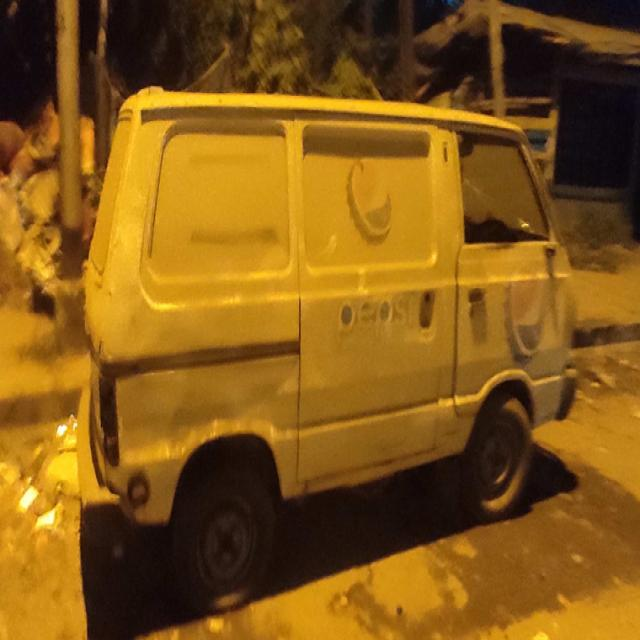van: (78, 85, 580, 616)
